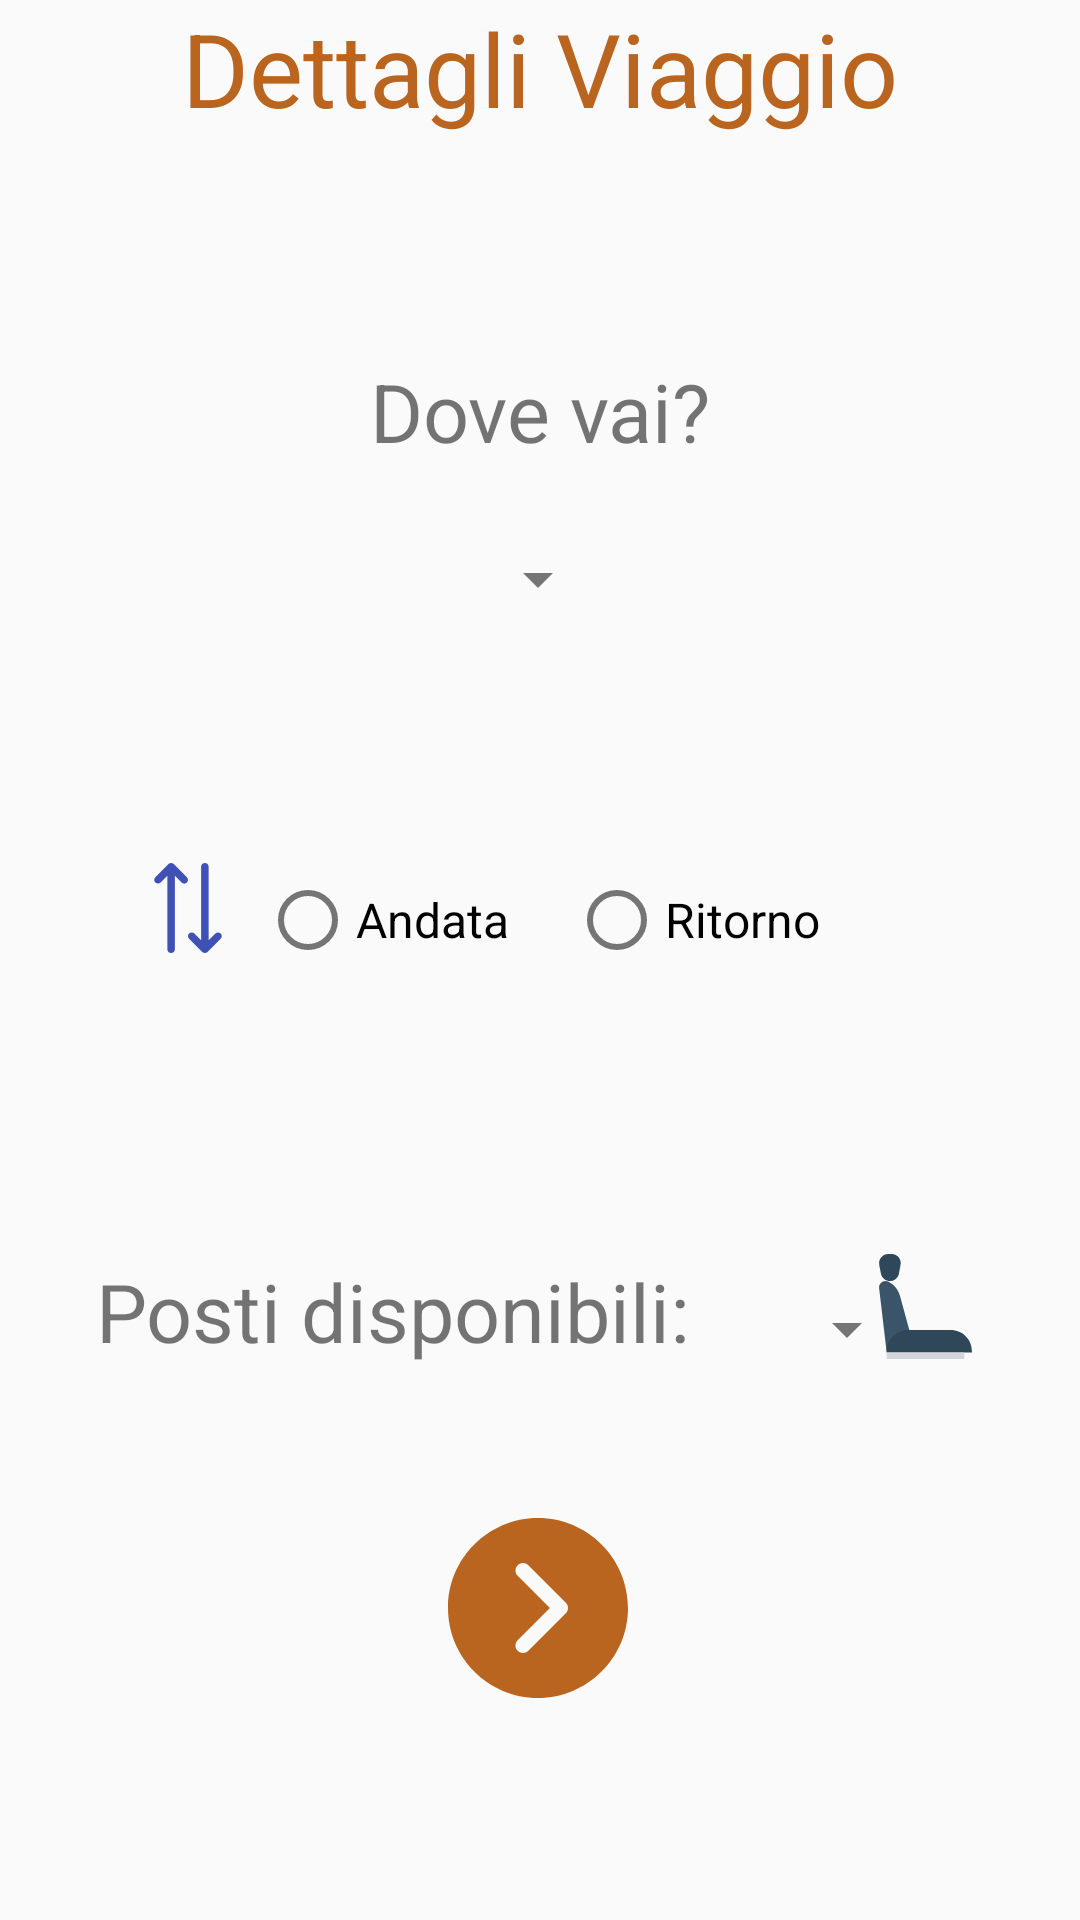

Where icons sit on this 1080x1920 app screen, as detection(x1, y1, x2, y2):
arrow: detection(154, 863, 222, 953)
right arrow: detection(448, 1518, 628, 1698)
seat: detection(879, 1254, 972, 1359)
